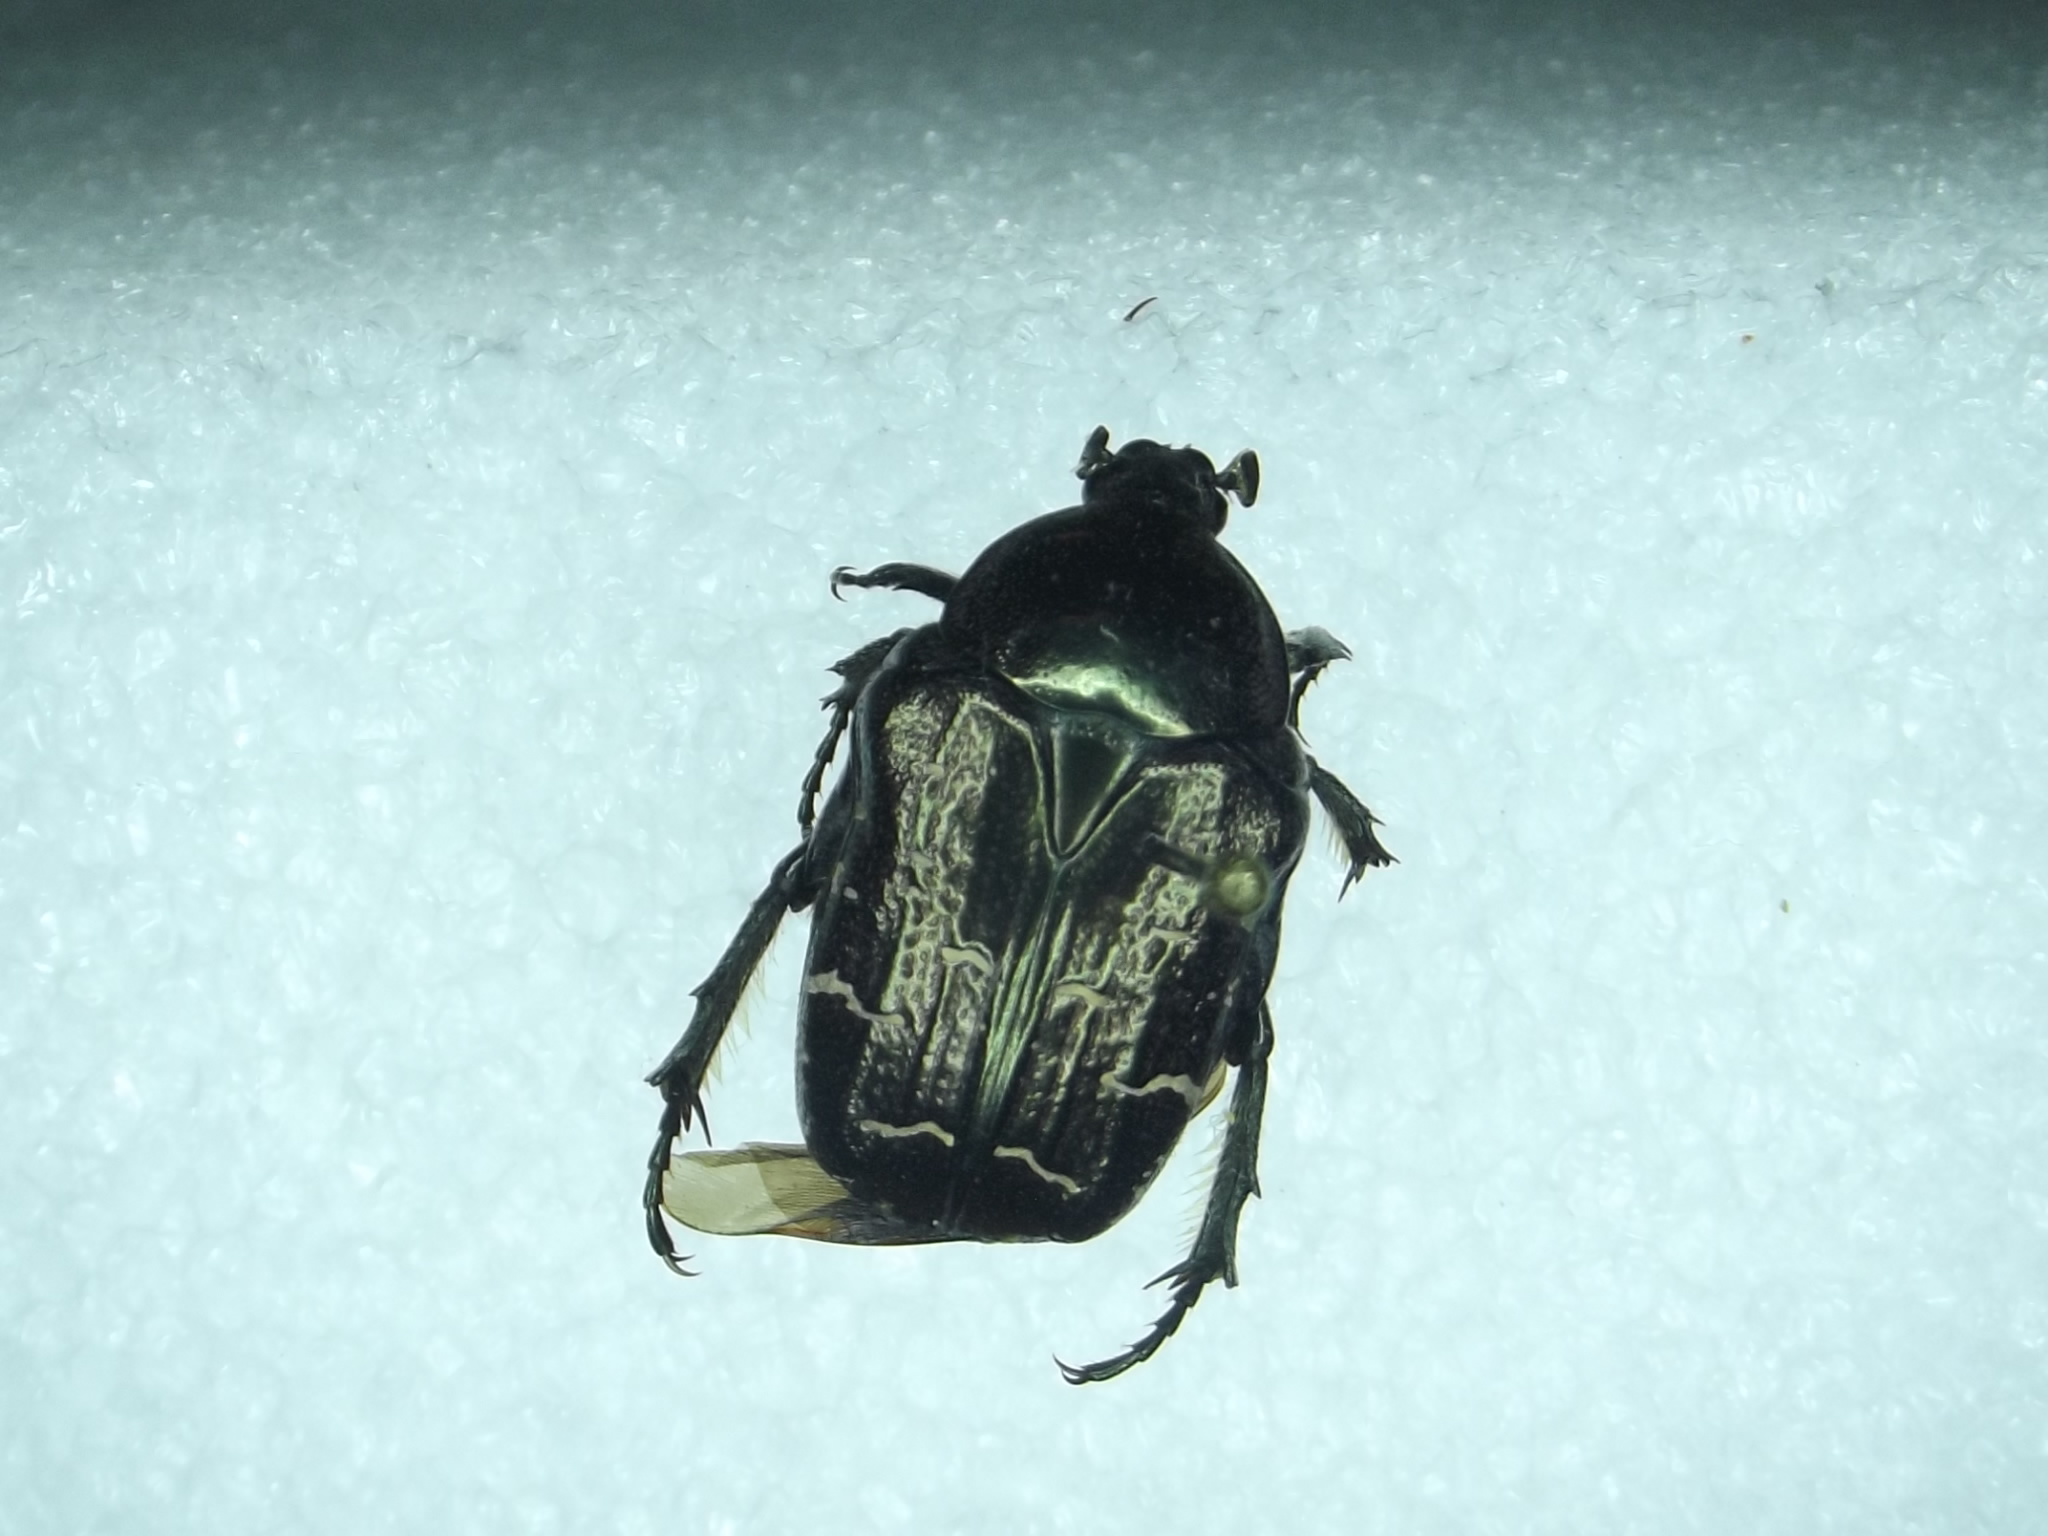Cetonia_kemali: (629, 387, 1408, 1418)
